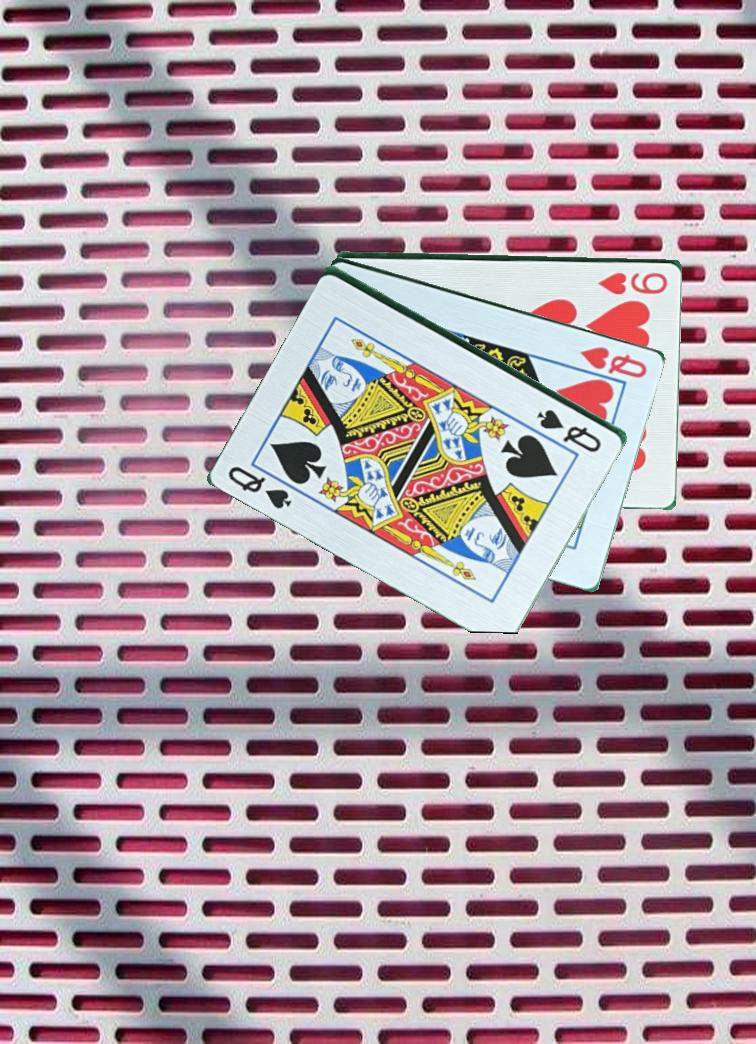9h: (595, 268, 671, 296)
qh: (577, 342, 651, 381)
qs: (224, 462, 297, 512), (534, 405, 605, 456)
